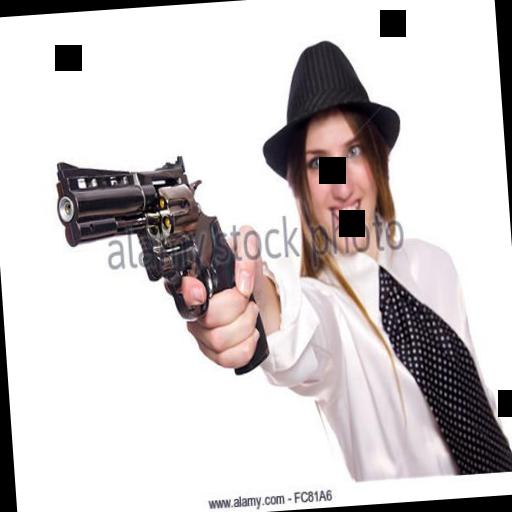Handgun: (50, 140, 270, 386)
